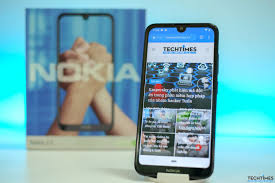nokia: (127, 16, 226, 177)
